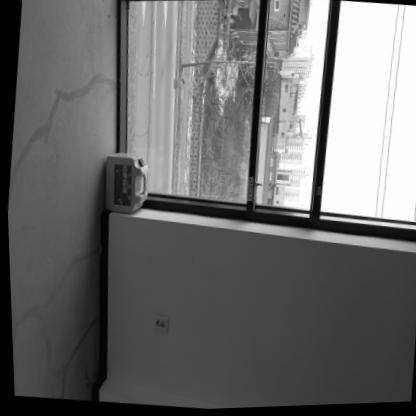DDL: (96, 151, 148, 216)
